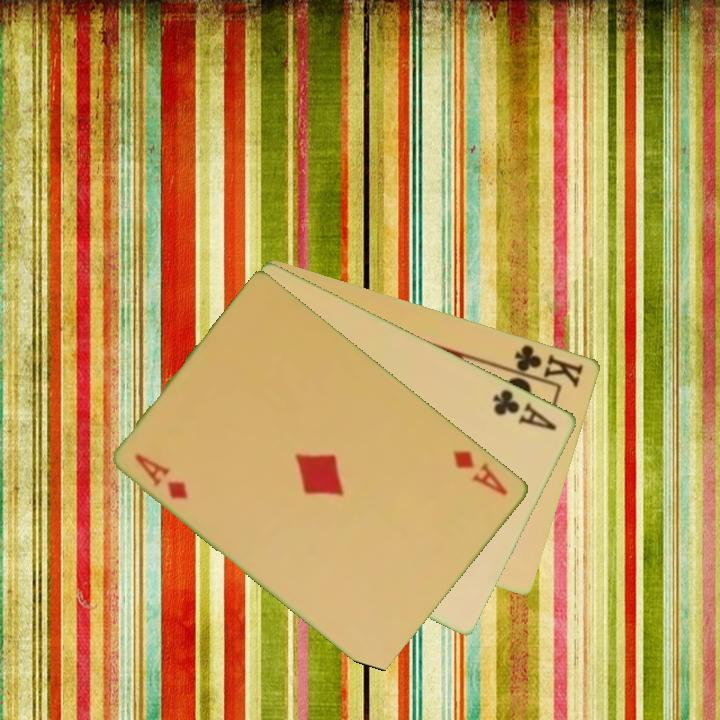Ac: (489, 385, 560, 434)
Ad: (449, 446, 512, 499), (131, 450, 192, 503)
Kc: (503, 341, 587, 390)
